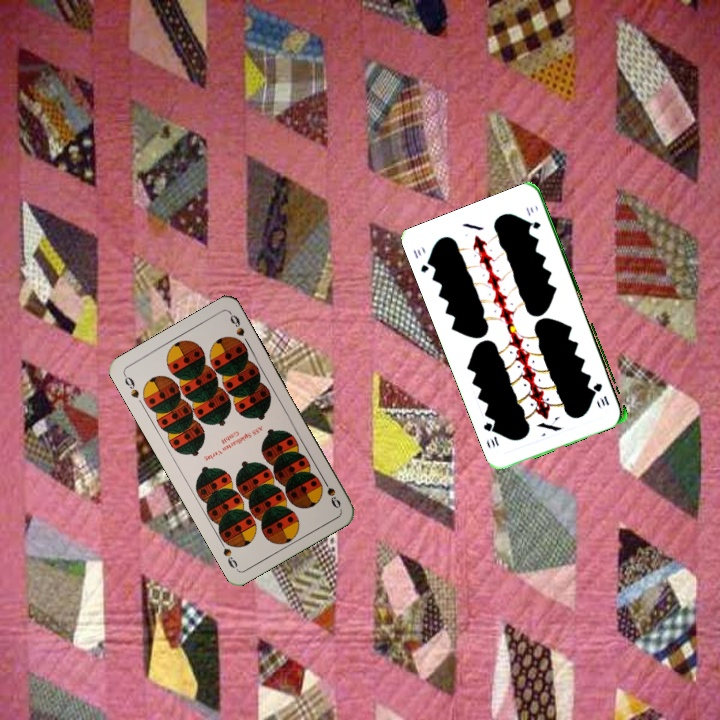G10: (409, 245, 435, 275), (591, 379, 612, 408)
S9: (318, 473, 343, 511), (120, 370, 142, 400)
